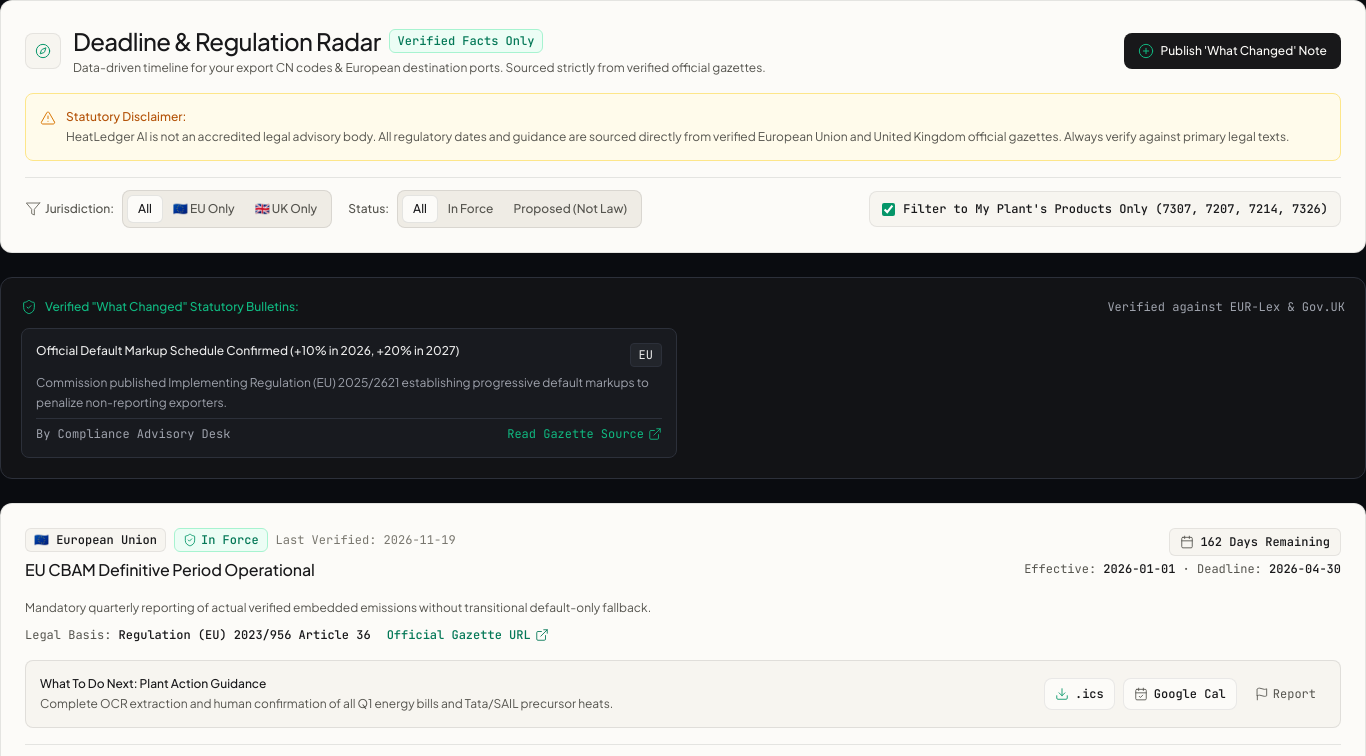
Scenario: Prompt P7: Deadline and Regulation Radar › filters regulations by jurisdiction (EU vs UK)
Expected: the heading "EU CBAM Definitive Period Operational" is shown, x1=25 y1=559 x2=315 y2=580
Note: Click UK Only filter
Click the button "🇬🇧 UK Only" at {"x": 286, "y": 209}, box x1=245 y1=195 x2=327 y2=223
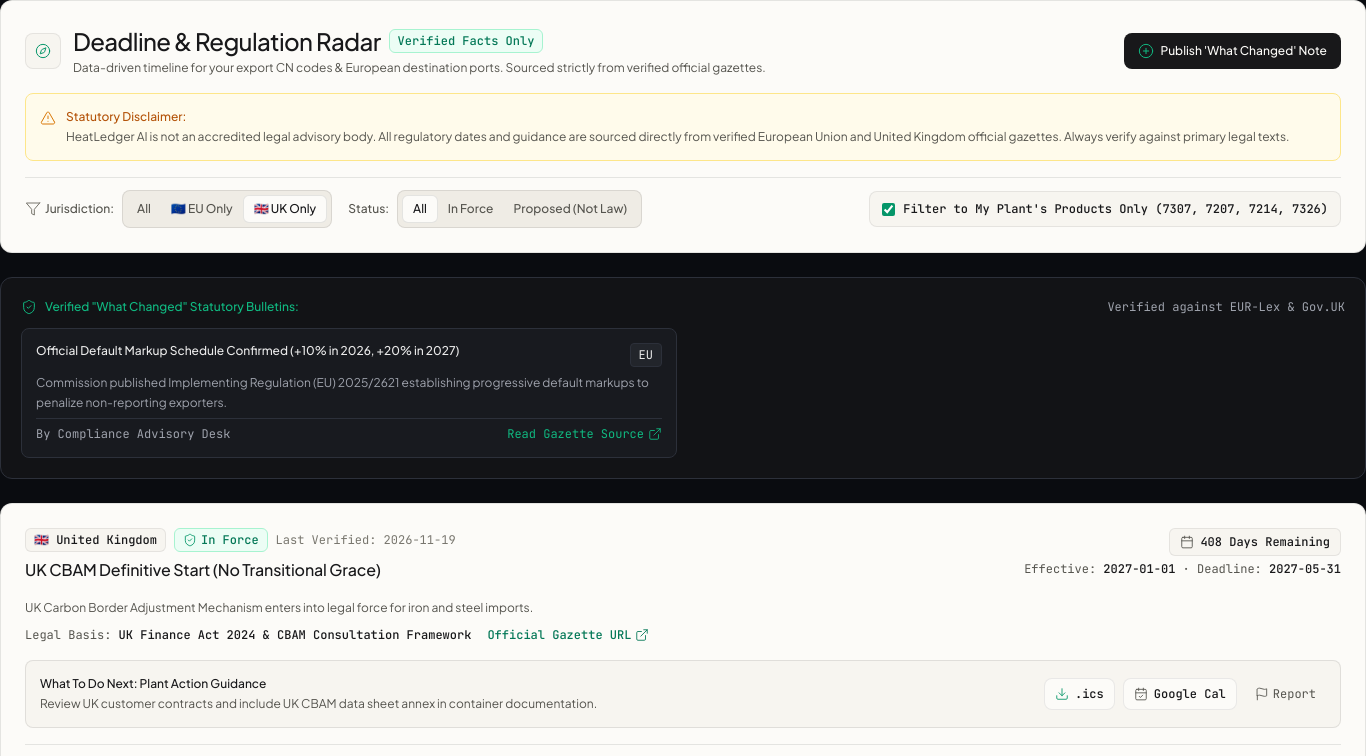
Expected: the heading "UK CBAM Definitive Start (No Transitional Grace)" is shown, x1=25 y1=559 x2=381 y2=580
Now the heading "EU CBAM Definitive Period Operational" is gone
Note: Click EU Only filter
Click the button "🇪🇺 EU Only" at {"x": 202, "y": 209}, box x1=161 y1=195 x2=243 y2=223
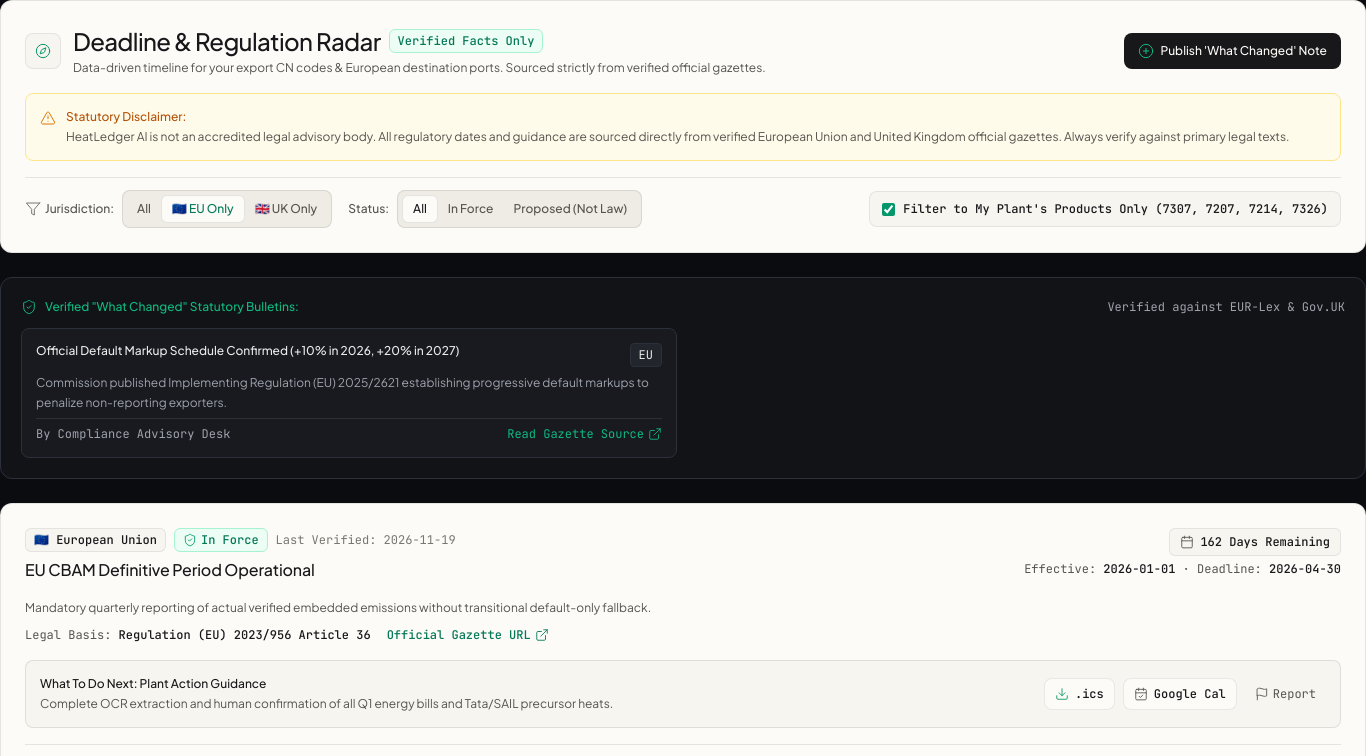
Now the heading "EU CBAM Definitive Period Operational" is shown, box x1=25 y1=559 x2=315 y2=580
Now the heading "UK CBAM Definitive Start" is gone
